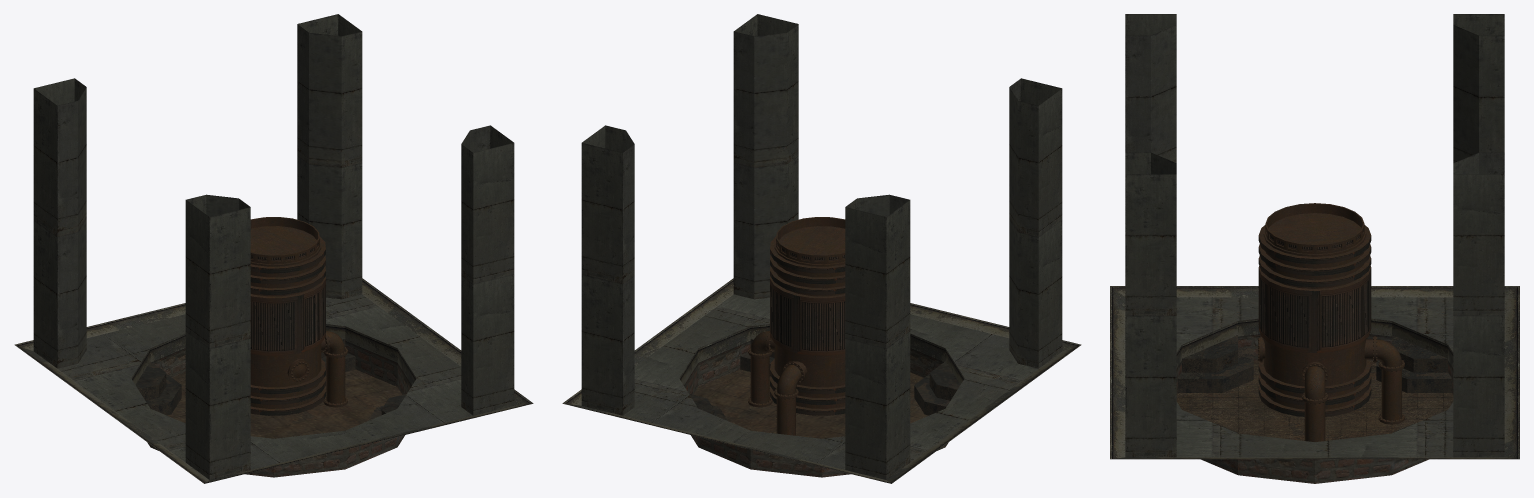
Rendered from structure_piece_rg_1.glb.
3 renders of one model, left to right at view 1: azimuth 30°, elevation 25°; view 2: azimuth 150°, elevation 25°; view 3: azimuth 270°, elevation 25°, orthographic. The views are drawn at different scales.
Parts seen in each view (by area): view 1: structure_piece_rg_1, boiler_hx_1; view 2: structure_piece_rg_1, boiler_hx_1; view 3: structure_piece_rg_1, boiler_hx_1.
Boxes of the visible parts, x1=… form: structure_piece_rg_1: x1=14, y1=14, x2=533, y2=483; boiler_hx_1: x1=250, y1=217, x2=347, y2=415; structure_piece_rg_1: x1=562, y1=14, x2=1081, y2=483; boiler_hx_1: x1=748, y1=217, x2=845, y2=435; structure_piece_rg_1: x1=1110, y1=14, x2=1519, y2=483; boiler_hx_1: x1=1258, y1=203, x2=1404, y2=441.
Size of the model in its own units: 8 by 7 by 8.
Materials: 6 (6 with a texture image).
